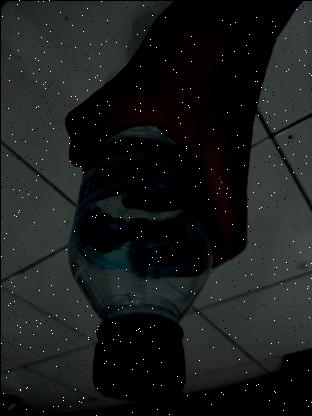Plastic Bottle: (54, 63, 236, 401)
